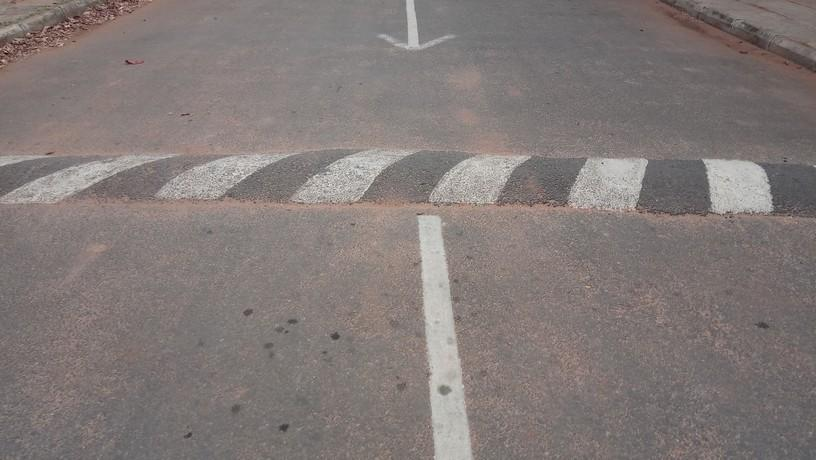speed-bump: (2, 148, 816, 217)
